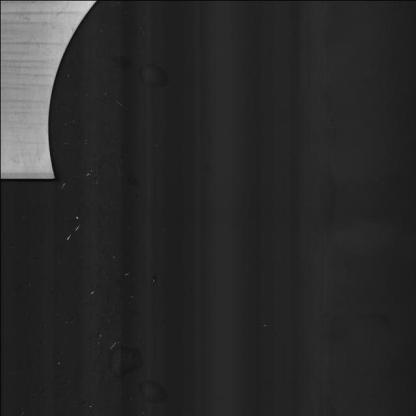waist_folding: (3, 0, 45, 154)
